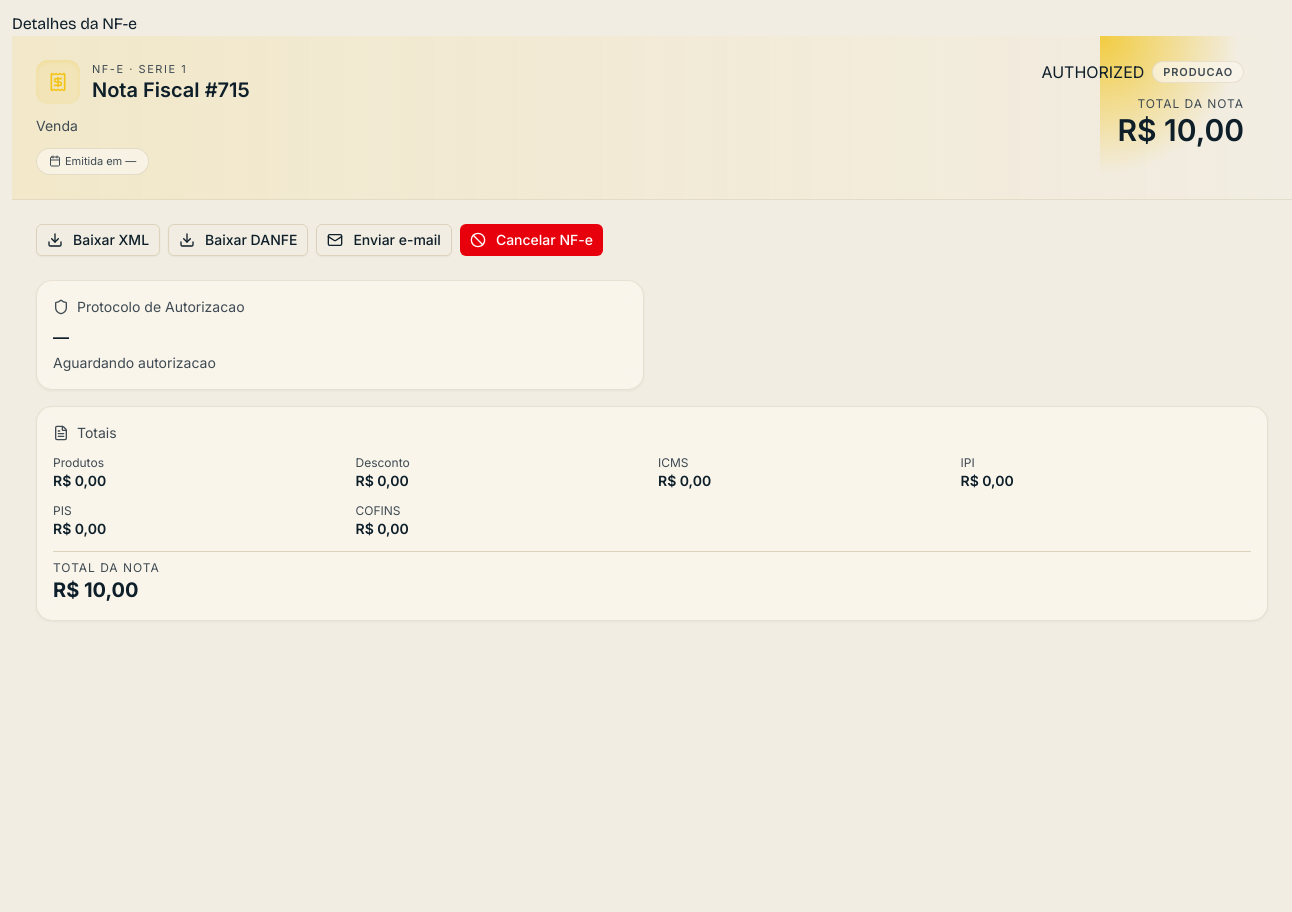
ficha da nota — erro no download aparece › acesso removido (403 PAGE_FORBIDDEN): o `message` do servidor aparece
Click the button "Baixar XML" at (98, 240), box [36,224,160,256]
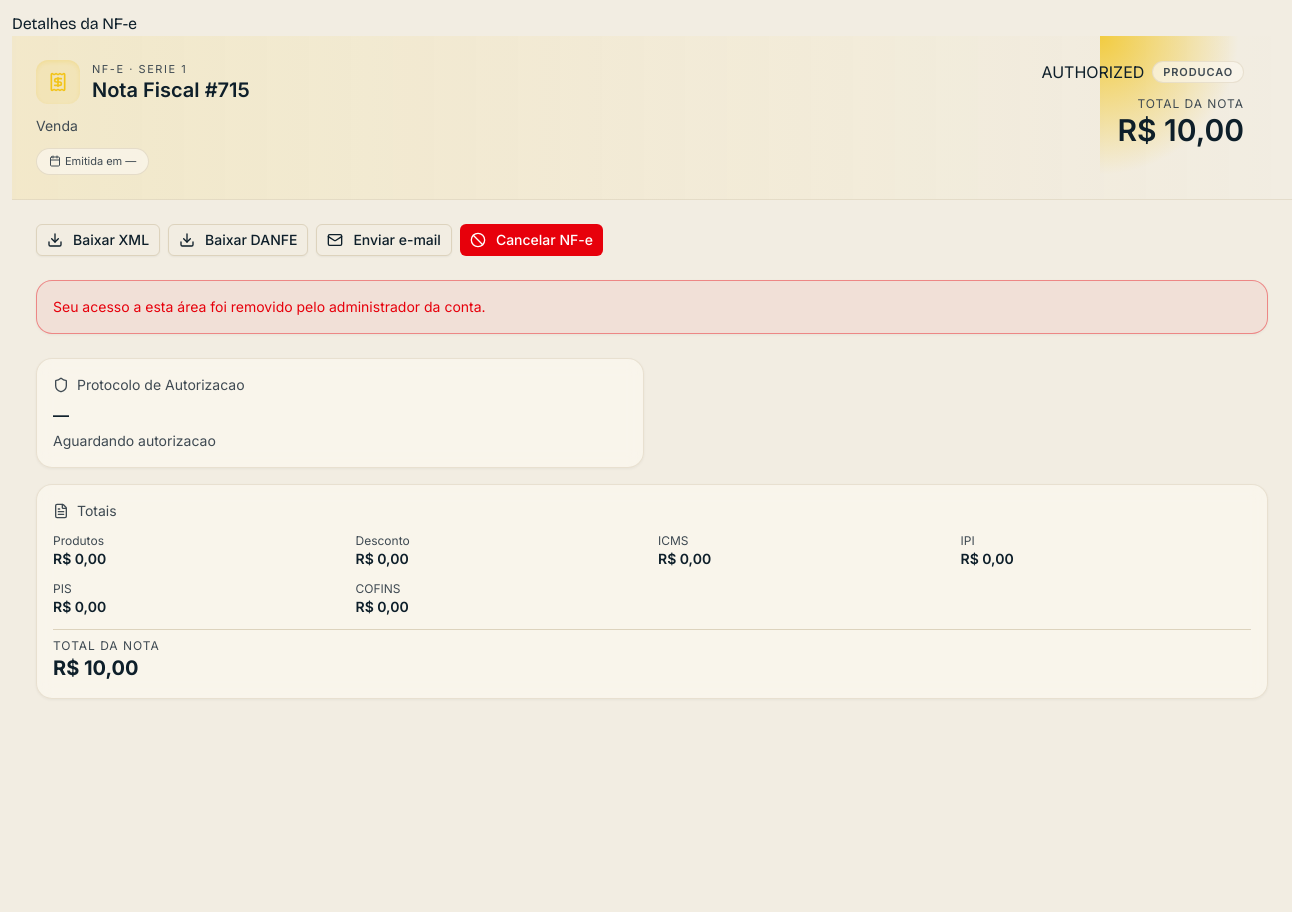
Expected: the message "Seu acesso a esta área foi removido pelo administrador da conta." is shown, [36,280,1268,334]
